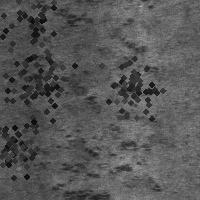rolled-in_scale: (52, 109, 167, 198), (0, 27, 84, 125), (32, 2, 97, 106), (90, 43, 170, 123), (109, 1, 163, 96), (0, 102, 57, 184), (0, 0, 72, 61)
